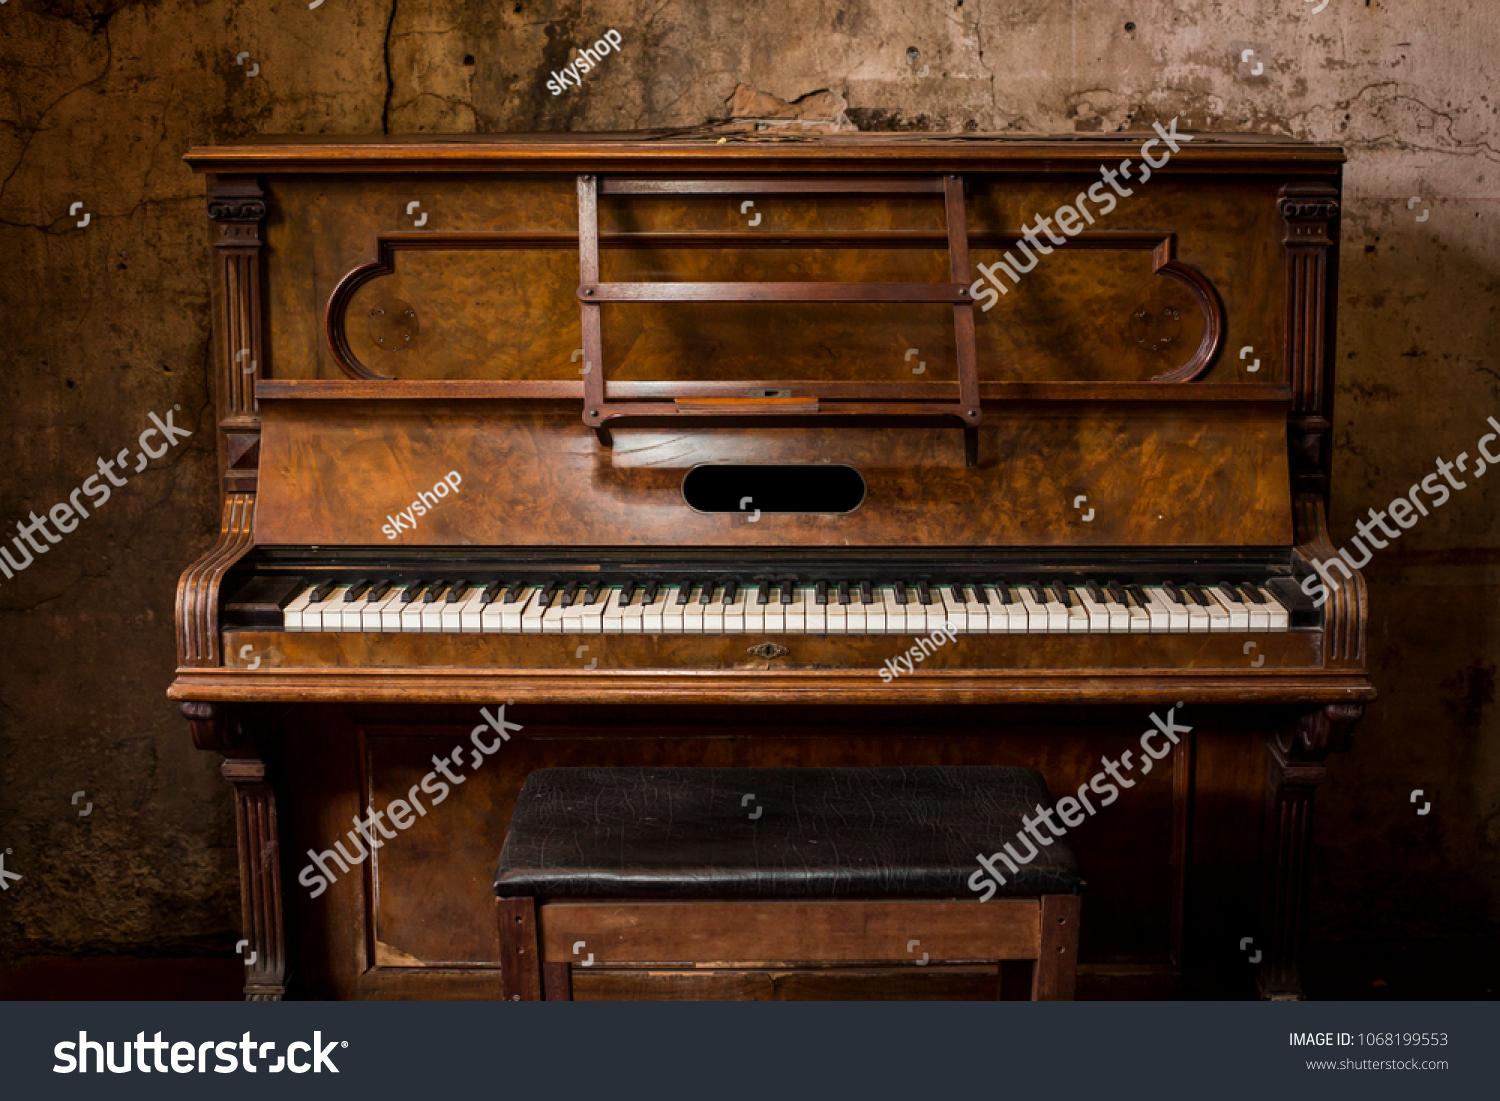Piano: (123, 100, 1410, 1012)
